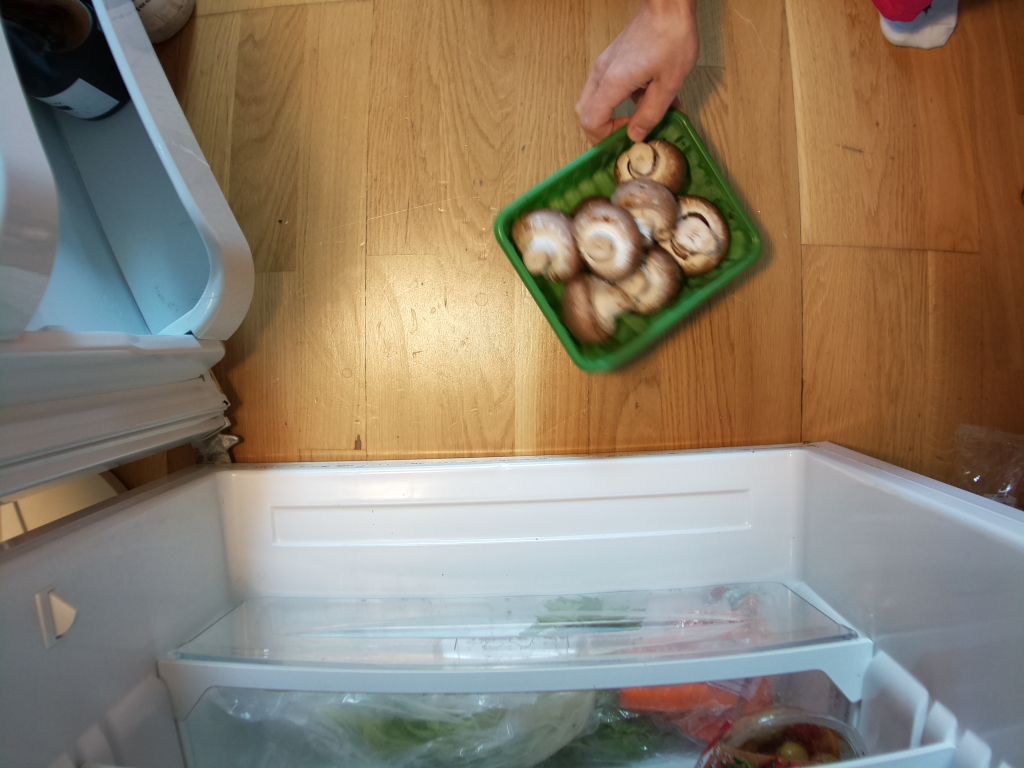mushrooms: (499, 102, 769, 379)
